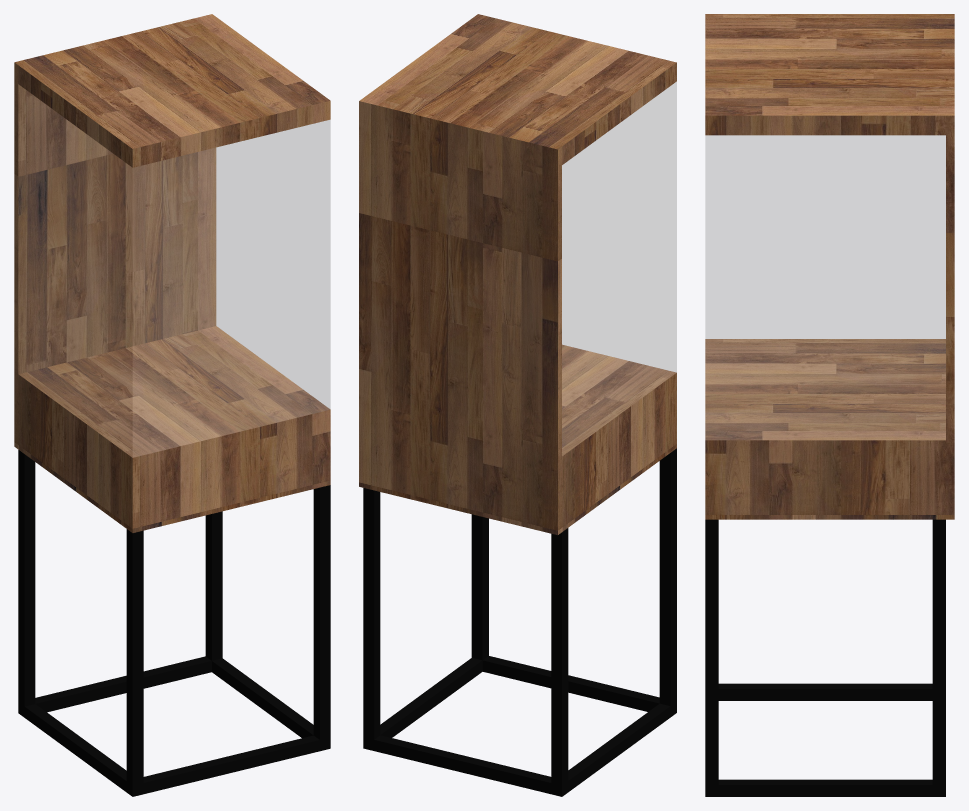
3 renders of one model, left to right at view 1: azimuth 30°, elevation 25°; view 2: azimuth 150°, elevation 25°; view 3: azimuth 270°, elevation 25°, orthographic. The views are drawn at different scales.
Visible parts, largest first — view 1: kaide3; view 2: kaide3; view 3: kaide3.
Part boxes in pixels (box(x1,y1,x2,y2)): kaide3: box(14, 14, 330, 796); kaide3: box(359, 14, 676, 796); kaide3: box(705, 14, 954, 796).
Size of the model in its own units: 0.55 by 1.72 by 0.57.
Materials: 3 (1 with a texture image).
